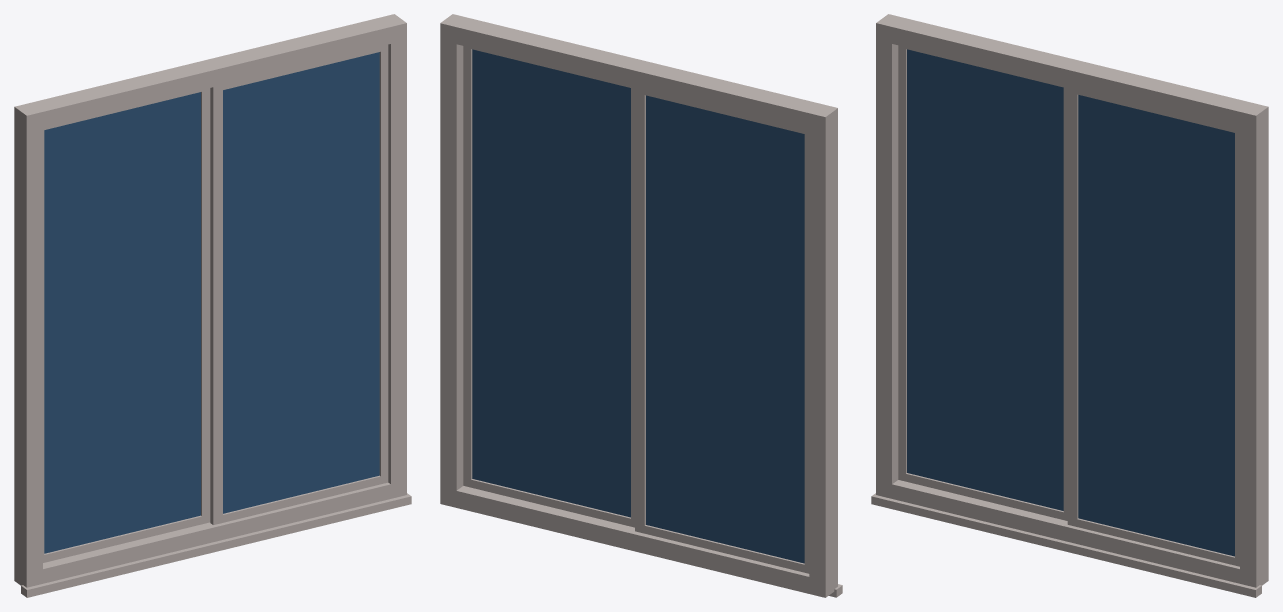
Rendered from SM_Opening_Window16520_01.gltf.
The picture shows the model from 3 angles, left to right: view 1: azimuth 30°, elevation 25°; view 2: azimuth 150°, elevation 25°; view 3: azimuth 330°, elevation 25°; orthographic projection.
Visible parts, largest first — view 1: SM_Opening_Window16520_01; view 2: SM_Opening_Window16520_01; view 3: SM_Opening_Window16520_01.
Part boxes in pixels (<box>): SM_Opening_Window16520_01: <box>14,14,411,597</box>; SM_Opening_Window16520_01: <box>440,14,842,597</box>; SM_Opening_Window16520_01: <box>871,14,1268,597</box>.
Bounding box in the file's own units: 1.79 × 2.13 × 0.12.
Materials: 1 (1 with a texture image).
